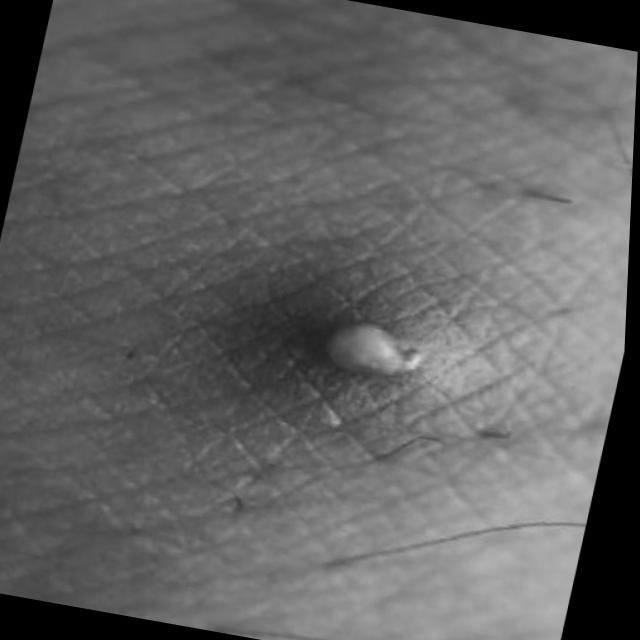Acne: (325, 296, 437, 395)
